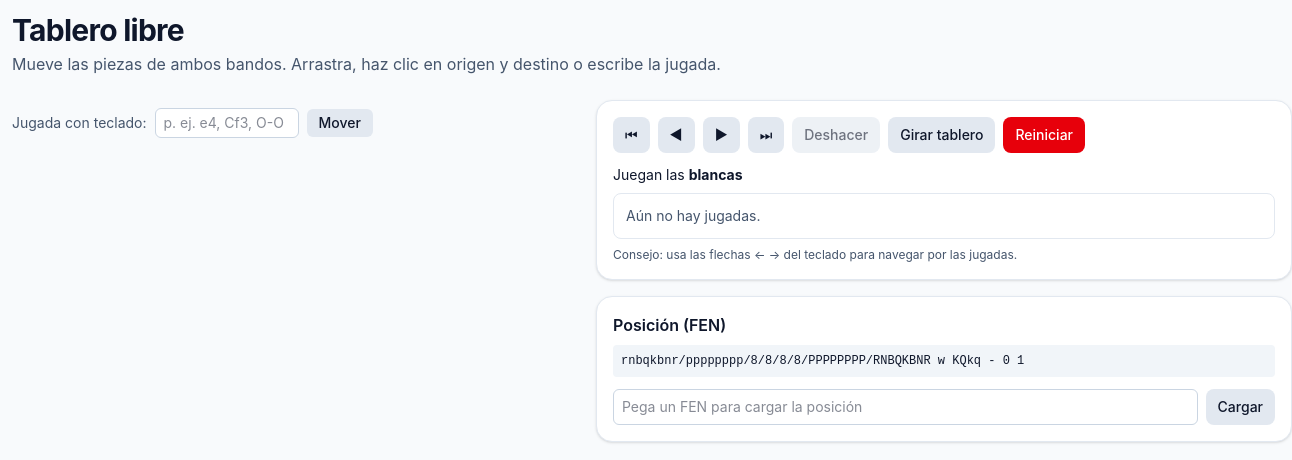
it: FreeBoardPage › permite jugar con el teclado y muestra la jugada en notación española
The image size is (1292, 460).
Step 1. Type "Cf3" into the field labelled "Jugada con teclado:" → (226, 123), box left=154, top=108, right=298, bottom=138
Then press Enter
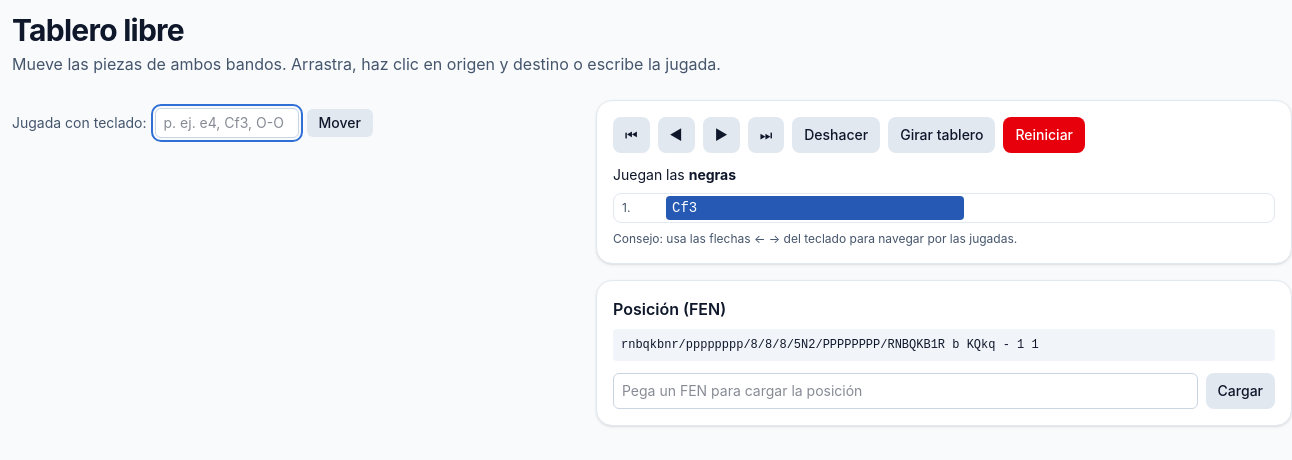
Expected: the button "Cf3" is shown, left=666, top=196, right=964, bottom=220
Expected: the text "Juegan las negras" is shown, left=613, top=166, right=736, bottom=183
Step 2. Type "xx" into the field labelled "Jugada con teclado:" → (226, 123), box left=154, top=108, right=298, bottom=138
Then press Enter
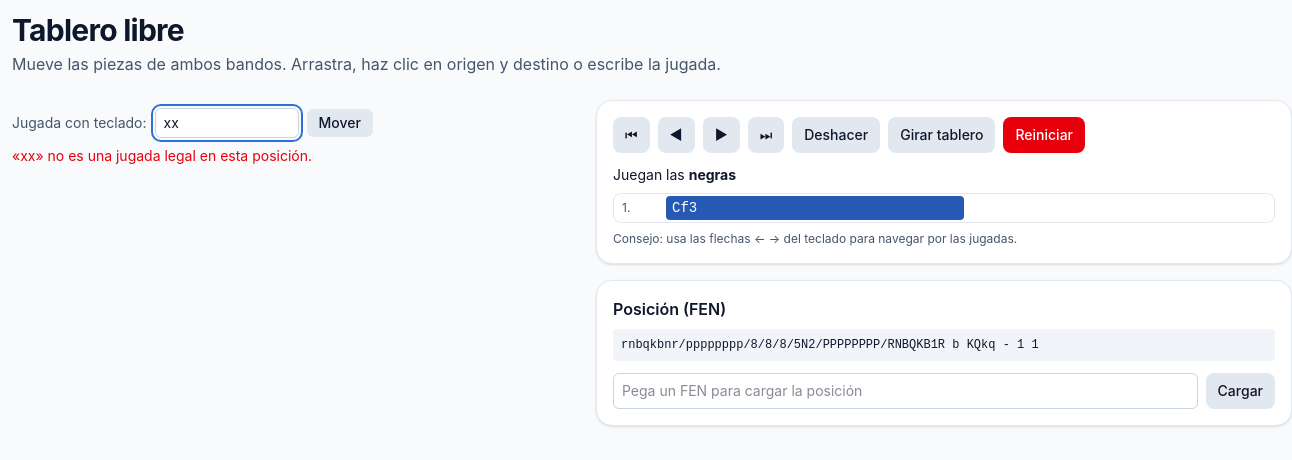
Expected: the message shows "no es una jugada legal", left=12, top=147, right=312, bottom=164
